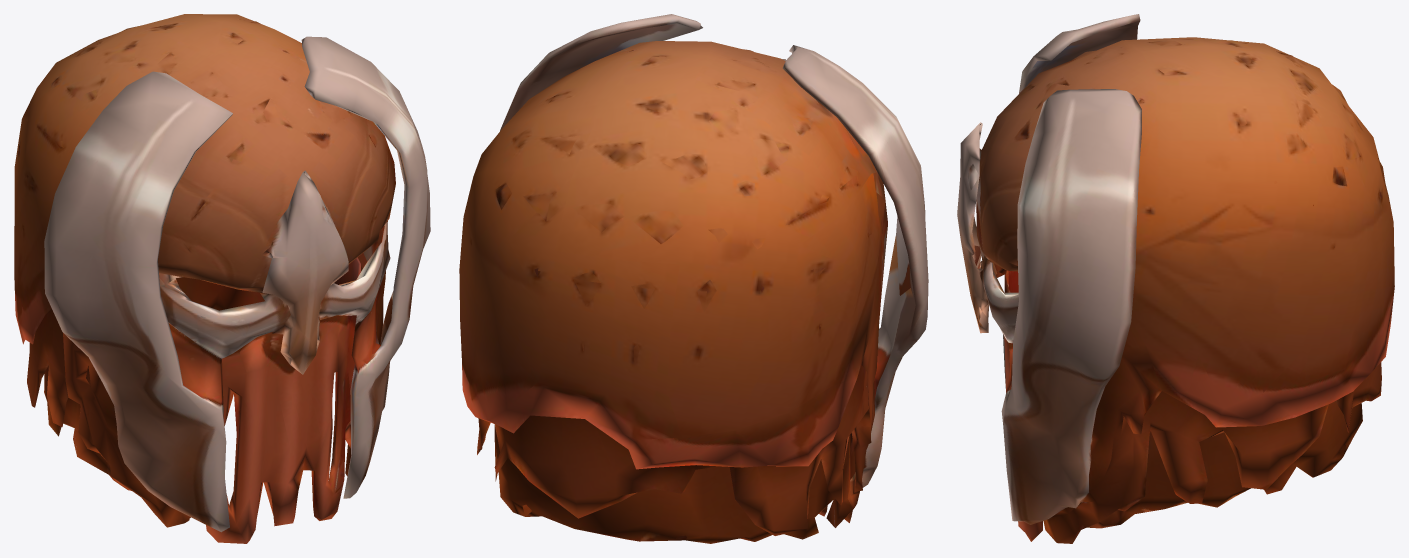
Rendered from Helmet_Gold_Metal.fbx.
3 views of the same model, side by side, from view 1: azimuth 30°, elevation 25°; view 2: azimuth 150°, elevation 25°; view 3: azimuth 270°, elevation 25° (orthographic). The views are drawn at different scales.
Parts seen in each view (by area): view 1: tripo_node_a22744d8.001; view 2: tripo_node_a22744d8.001; view 3: tripo_node_a22744d8.001.
Boxes of the visible parts, left/top/right/bottom form: tripo_node_a22744d8.001: left=14, top=14, right=430, bottom=543; tripo_node_a22744d8.001: left=459, top=14, right=928, bottom=543; tripo_node_a22744d8.001: left=957, top=14, right=1394, bottom=543.
Bounding box in the file's own units: 1.21 × 1.34 × 1.15.
1 material, 1 textured.
